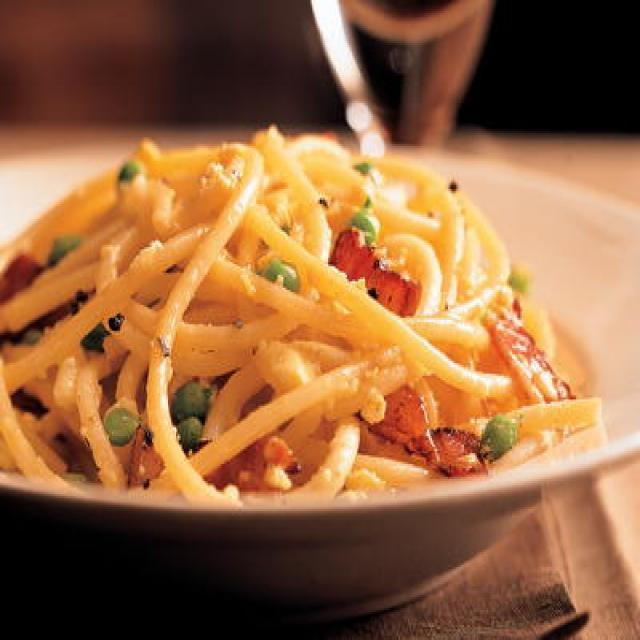Pasta with carbonara sauce: (8, 107, 616, 535)
